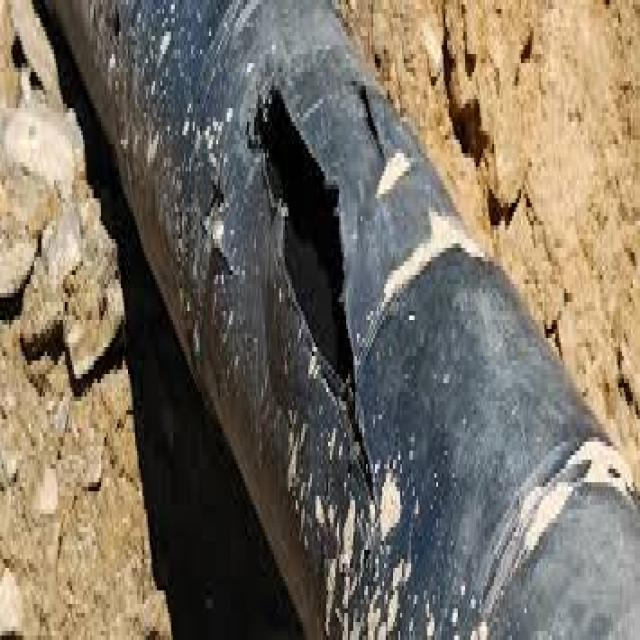hole: (249, 81, 380, 515)
